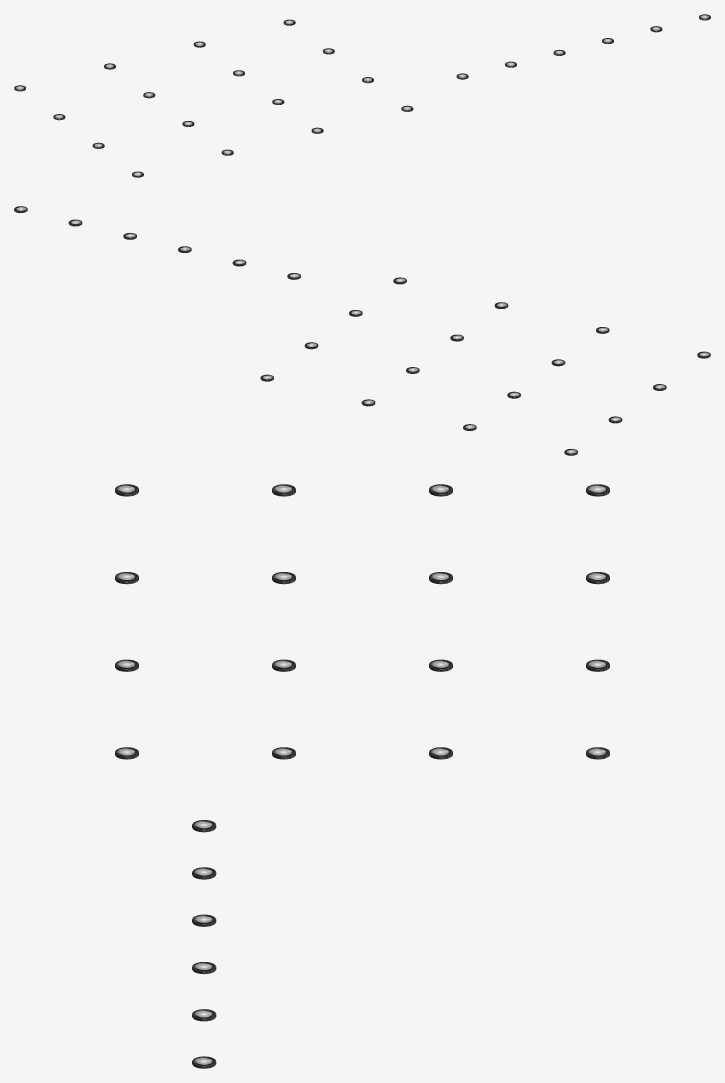
The model's file is ceilingRecessedLights.fbx.
3 renders of one model, top to bottom at view 1: azimuth 30°, elevation 25°; view 2: azimuth 150°, elevation 25°; view 3: azimuth 270°, elevation 25°, orthographic. The views are drawn at different scales.
Visible parts, largest first — view 1: Cylinder013; view 2: Cylinder013; view 3: Cylinder013.
Boxes of the visible parts, <box> form: Cylinder013: <box>14,14,710,177</box>; Cylinder013: <box>14,206,710,455</box>; Cylinder013: <box>115,484,609,1068</box>.
Size of the model in its own units: 561 by 1 by 202.
1 material, 1 textured.
